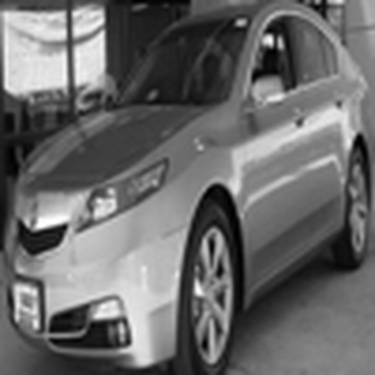car: (6, 7, 369, 370)
